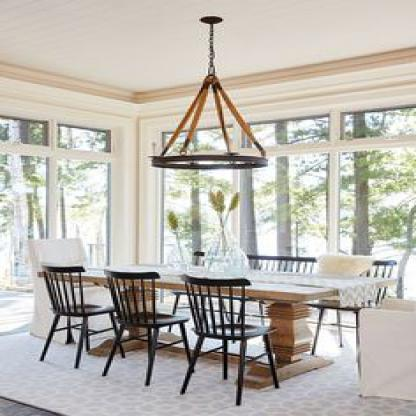table: (30, 259, 404, 392)
